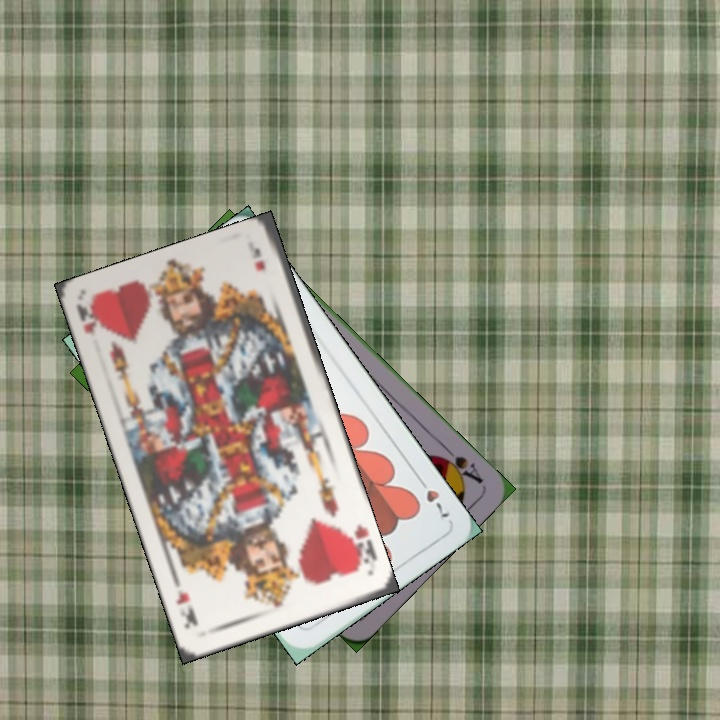H7: (413, 471, 454, 524)
HK: (341, 521, 380, 573), (73, 298, 105, 338)
SA: (432, 441, 486, 487)
